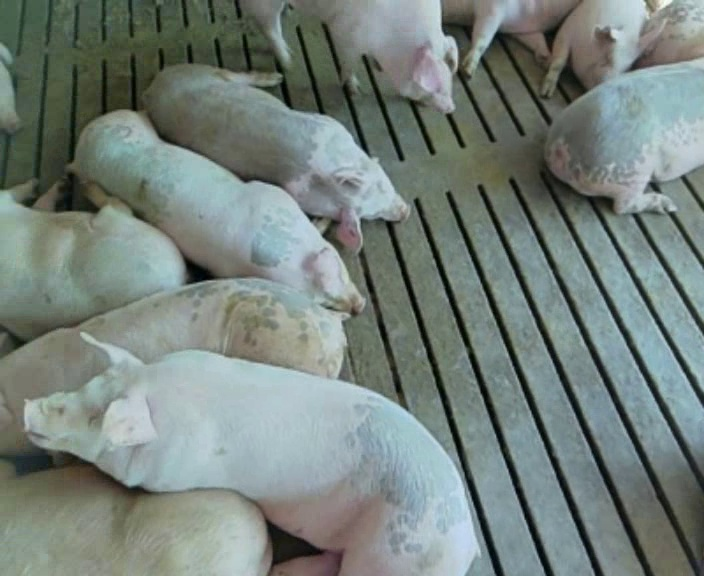pig: (25, 333, 477, 575), (0, 279, 345, 454), (74, 111, 364, 312), (143, 65, 409, 251), (544, 58, 703, 213), (541, 2, 664, 96), (442, 0, 577, 77), (632, 1, 703, 68)
